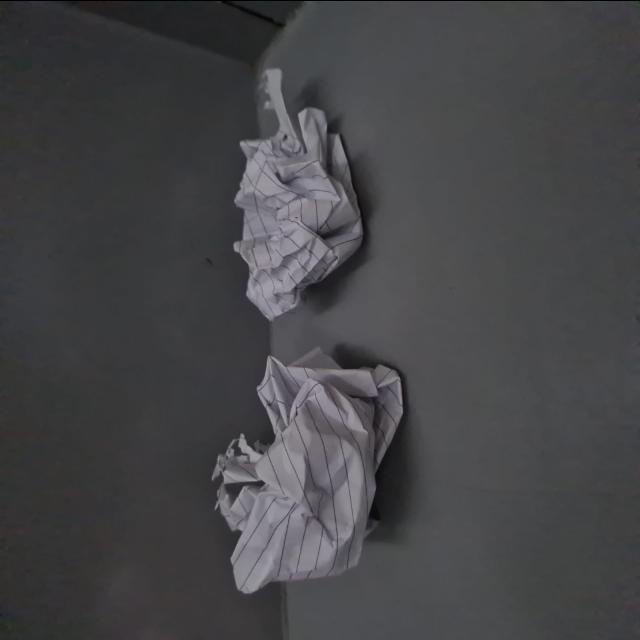kertas: (196, 334, 418, 598), (207, 64, 371, 305)
